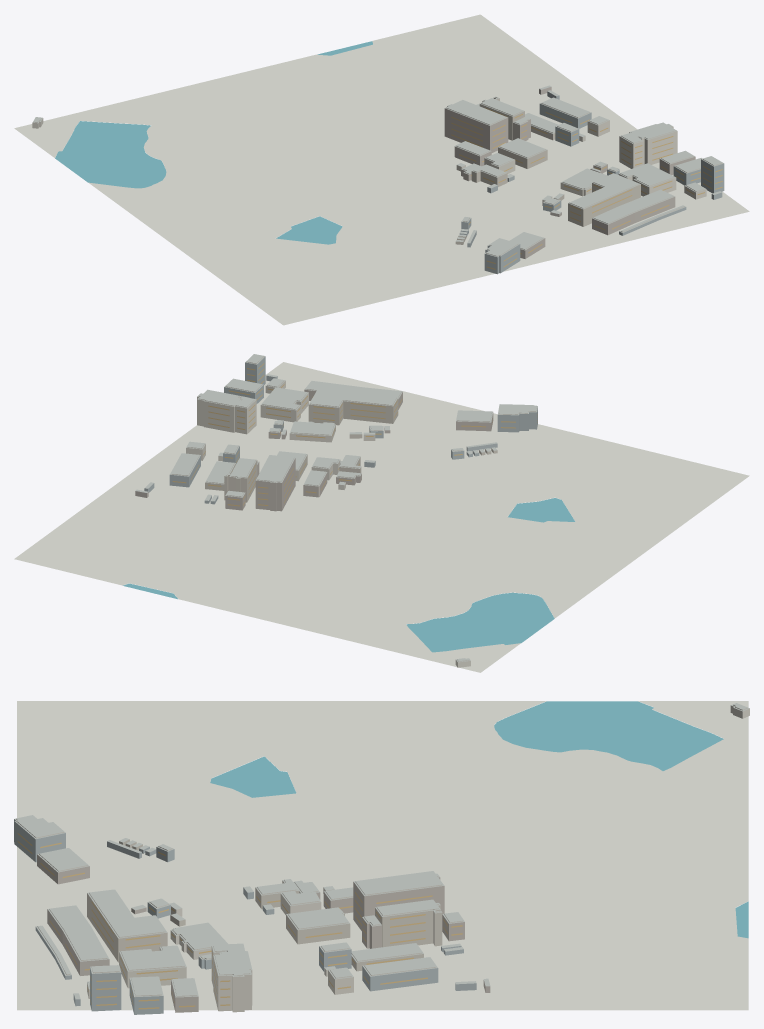
3 views of the same model, one above another, from view 1: azimuth 30°, elevation 25°; view 2: azimuth 150°, elevation 25°; view 3: azimuth 270°, elevation 25° (orthographic). The views are drawn at different scales.
Visible parts, largest first — view 1: city; view 2: city; view 3: city.
Part boxes in pixels (x1,y1,x2,y2): city: (14,14,749,325); city: (14,354,749,672); city: (14,701,749,1014).
Bounding box in the file's own units: 508 × 29.78 × 503.
